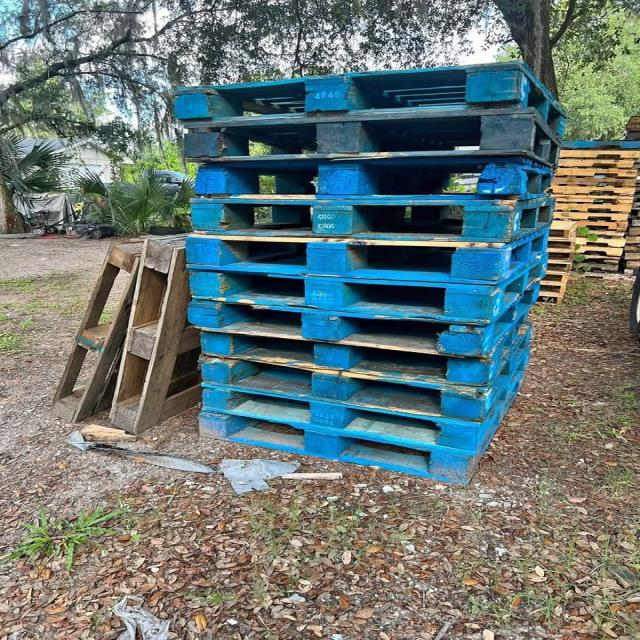non-igps: (165, 57, 577, 147), (195, 381, 493, 465), (193, 406, 492, 489), (172, 100, 536, 168), (193, 348, 494, 430), (105, 222, 215, 440), (194, 320, 496, 397), (186, 260, 503, 332), (42, 225, 153, 428), (183, 297, 494, 368), (180, 226, 508, 289), (190, 149, 530, 209), (182, 194, 520, 248), (548, 214, 632, 236), (550, 208, 631, 226), (548, 183, 639, 198), (551, 166, 640, 181), (550, 174, 639, 189), (548, 191, 636, 206), (556, 156, 637, 172), (553, 200, 634, 215), (556, 147, 640, 161), (558, 138, 639, 151), (541, 218, 580, 241), (573, 236, 628, 250), (574, 244, 626, 258), (570, 254, 625, 266), (573, 228, 627, 240), (535, 280, 568, 297), (536, 270, 572, 285), (541, 237, 579, 251), (533, 292, 565, 308), (546, 249, 578, 263), (543, 261, 574, 275)
